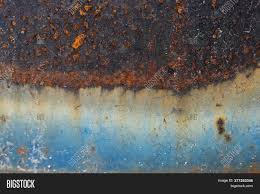rust: (1, 1, 260, 99), (211, 113, 234, 146)
